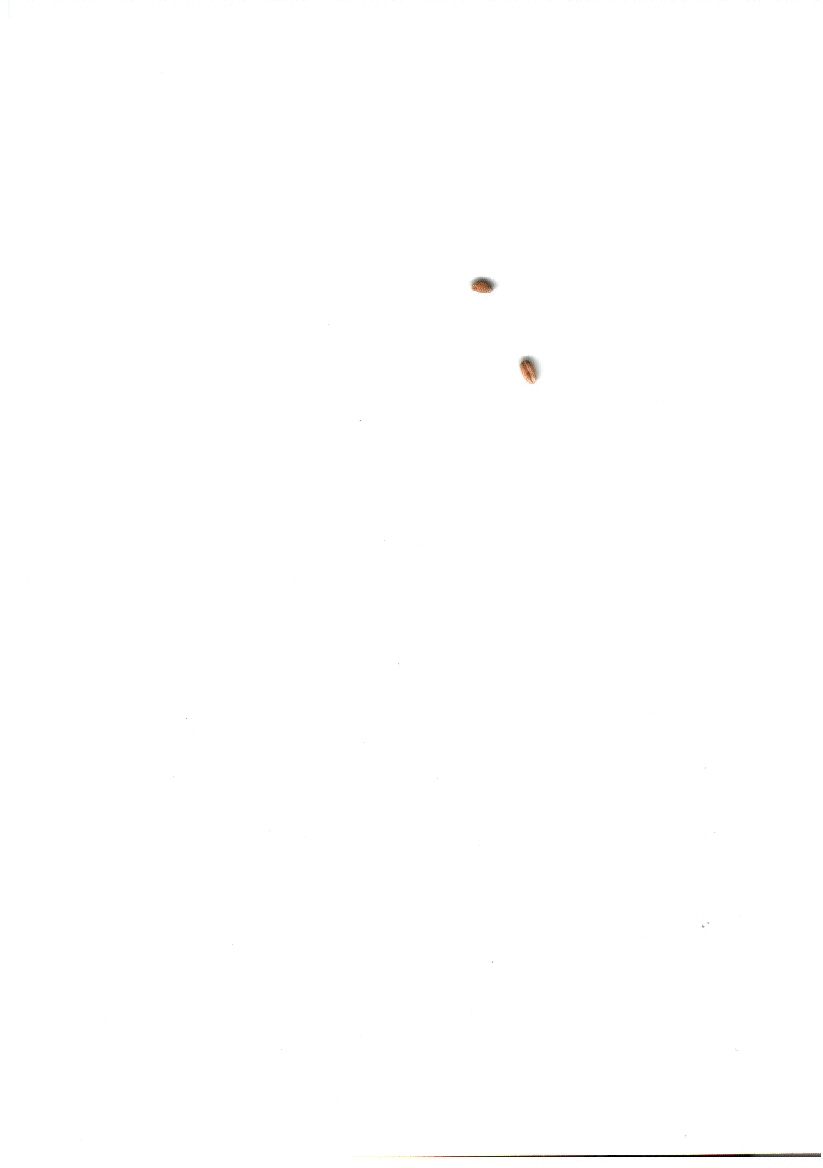grains: (507, 347, 553, 399), (462, 259, 501, 302)
